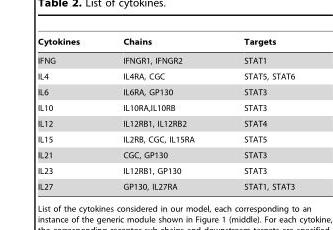table: (37, 37, 294, 190)
table column: (100, 37, 218, 190), (218, 37, 294, 190), (37, 37, 100, 190)
table column header: (37, 37, 294, 51)
table row: (37, 51, 294, 68), (37, 68, 294, 84), (37, 99, 294, 115), (37, 115, 294, 131), (37, 131, 294, 147), (37, 162, 294, 178), (37, 84, 294, 99), (37, 147, 294, 162), (37, 37, 294, 51), (37, 178, 294, 190)
